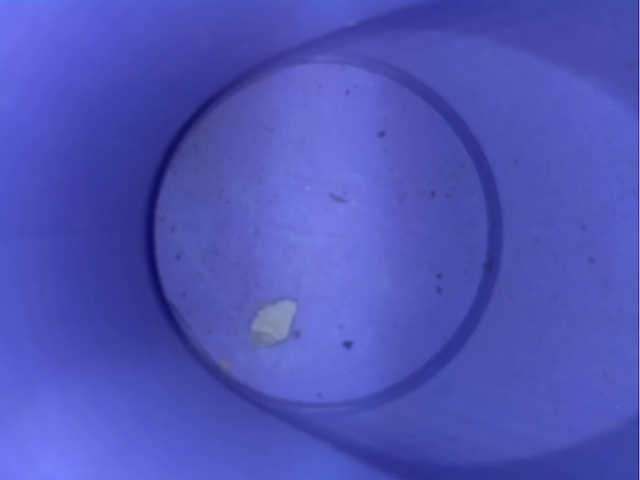caillou: (240, 284, 310, 352)
